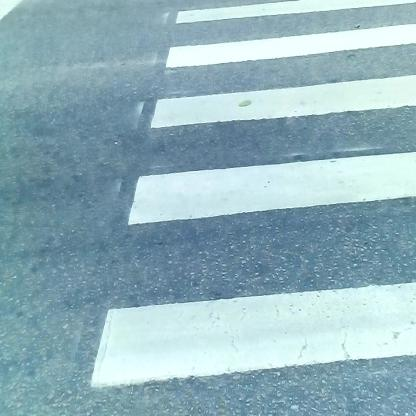crosswalk: (123, 8, 416, 416)
